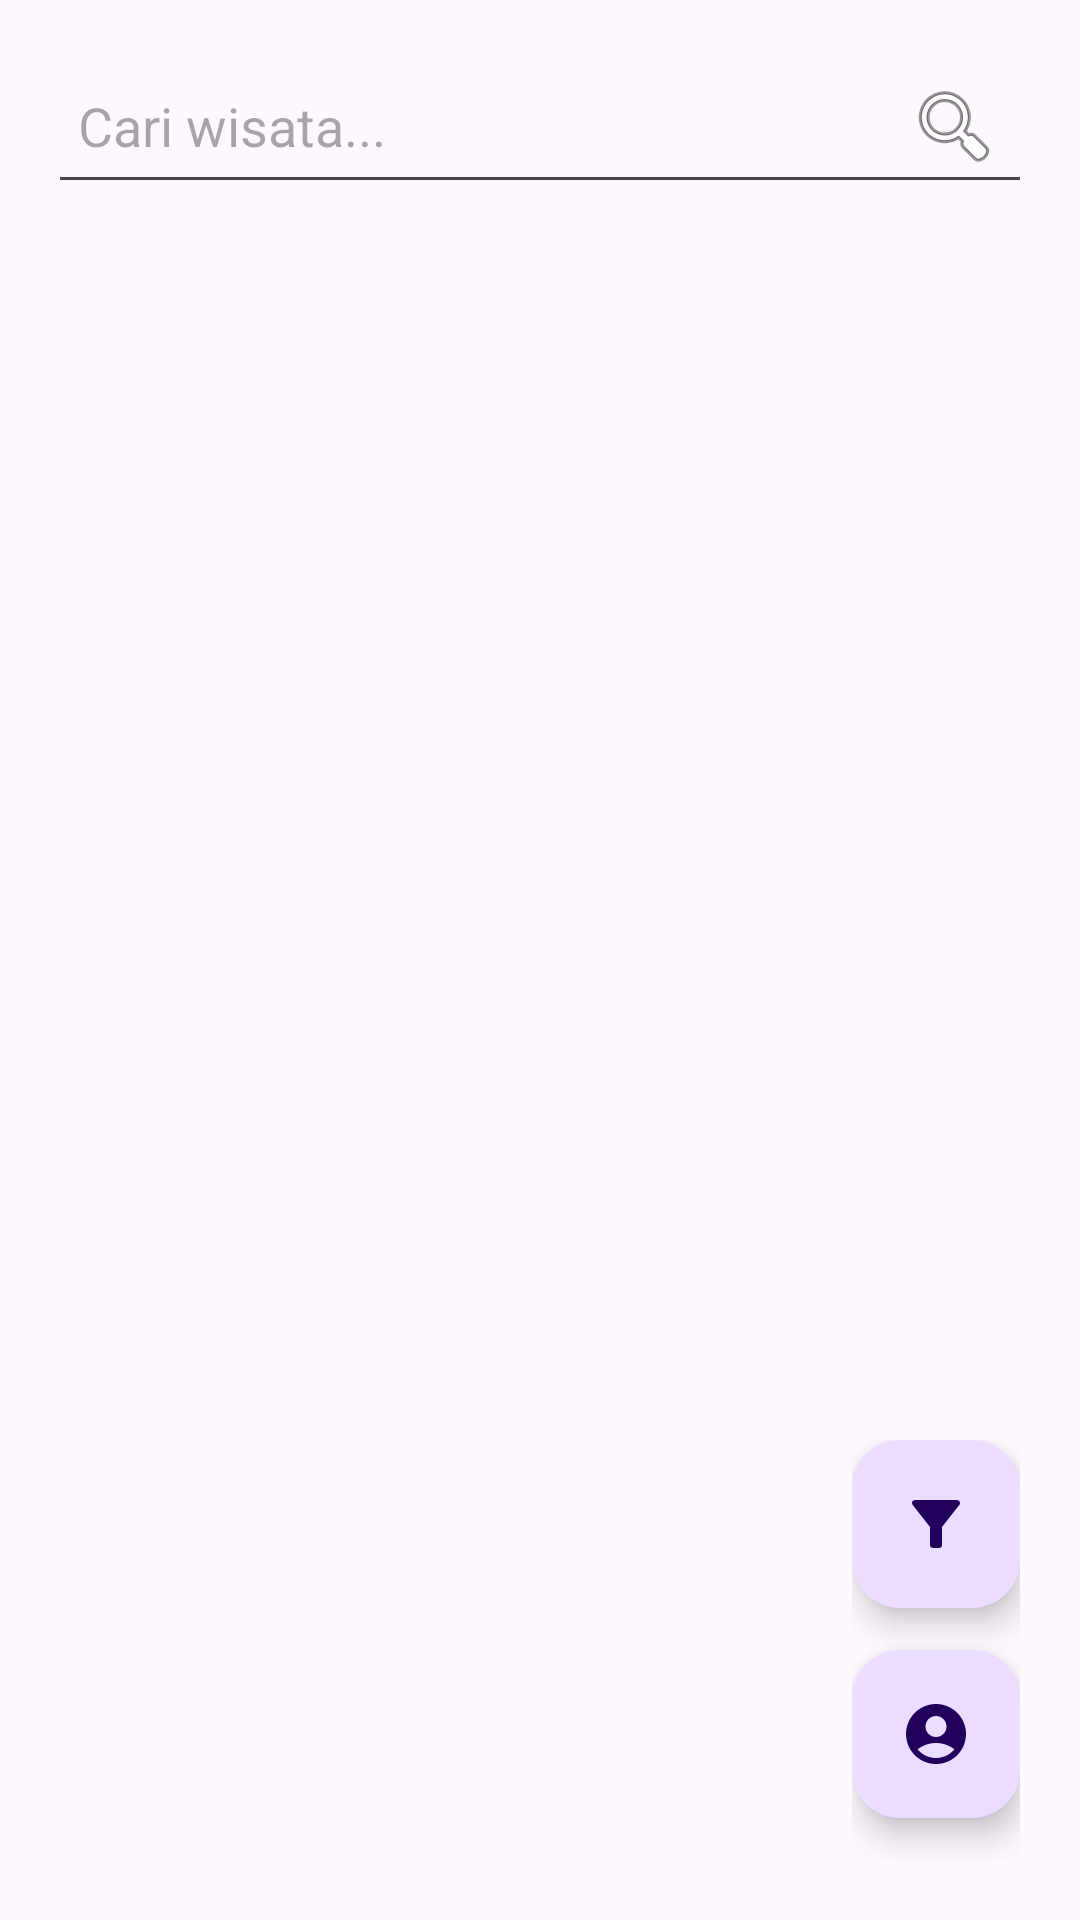

Screen size 1080x1920. Icon name, then its center in pixels as (x=x, y=y):
filter: (x=936, y=1524)
profile: (x=936, y=1734)
